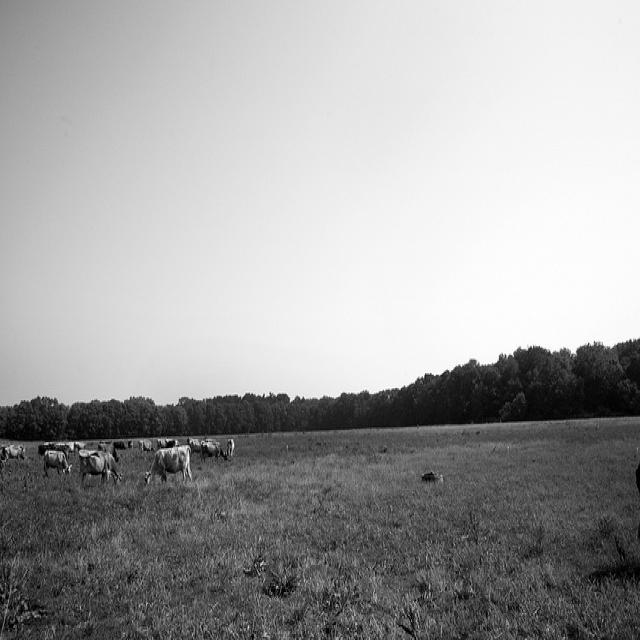cow: (0, 432, 638, 483), (144, 444, 190, 486), (77, 447, 121, 487), (43, 447, 70, 475), (199, 439, 226, 462), (97, 442, 118, 460), (186, 435, 204, 451), (6, 444, 24, 459), (136, 436, 154, 450), (419, 471, 438, 480), (113, 438, 125, 448), (226, 438, 233, 454), (162, 436, 174, 445), (72, 441, 78, 450)
